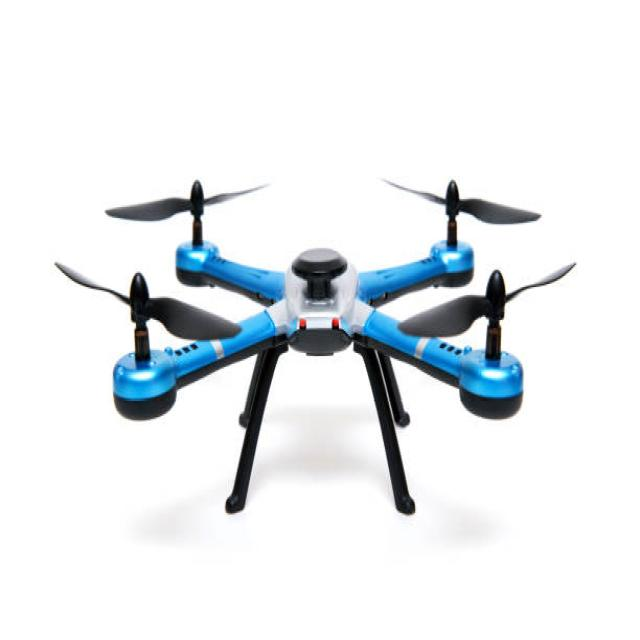drone: (36, 162, 590, 524)
